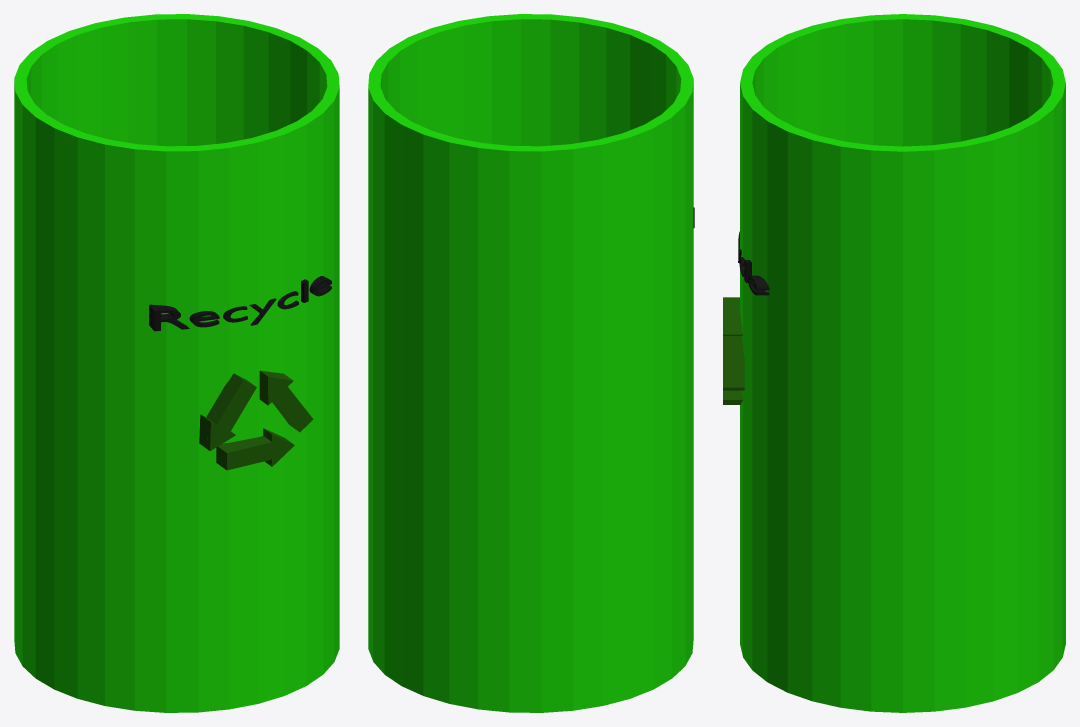
File: bin.dae
The picture shows the model from 3 angles, left to right: view 1: azimuth 30°, elevation 25°; view 2: azimuth 150°, elevation 25°; view 3: azimuth 270°, elevation 25°; orthographic projection.
Parts seen in each view (by area): view 1: Circle, Plane.002, Text; view 2: Circle; view 3: Circle, Plane.002, Text.
Part boxes in pixels (<box>): Circle: <box>14,14,339,712</box>; Plane.002: <box>199,370,313,470</box>; Text: <box>149,276,332,331</box>; Circle: <box>368,14,693,712</box>; Circle: <box>740,14,1065,712</box>; Plane.002: <box>723,297,744,404</box>; Text: <box>738,231,769,295</box>.
Bounding box in the file's own units: 0.2632 × 0.2768 × 0.5.
